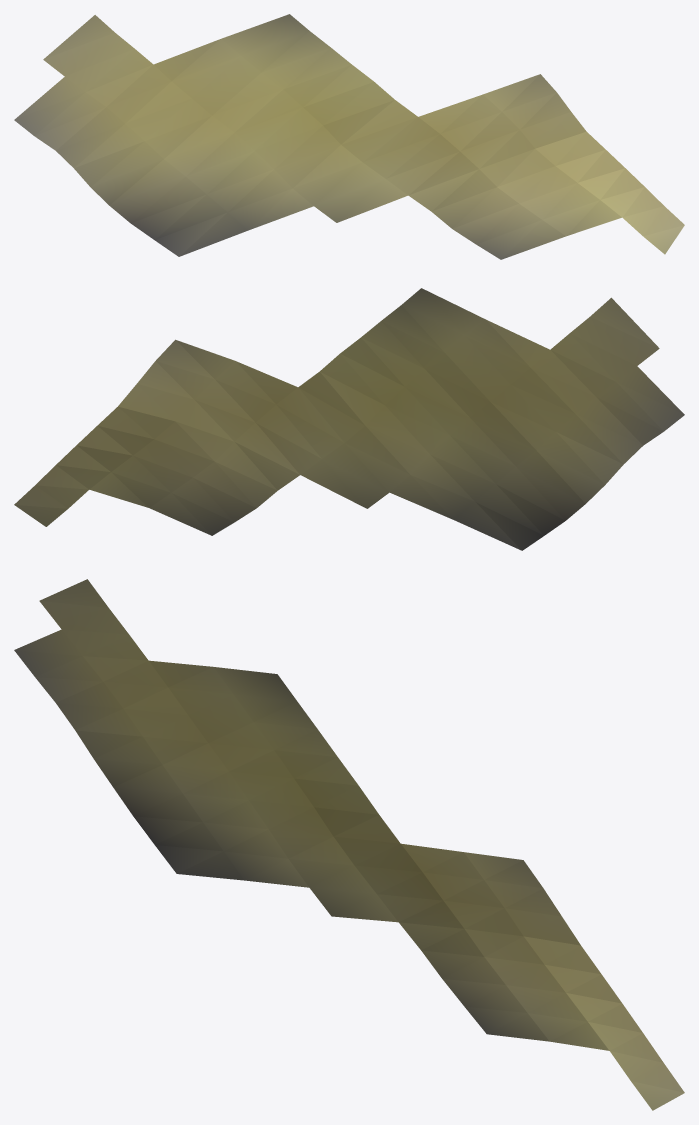
The model's file is entity-floor-marking-23.glb.
3 views of the same model, one above another, from view 1: azimuth 30°, elevation 25°; view 2: azimuth 150°, elevation 25°; view 3: azimuth 330°, elevation 25° (orthographic). The views are drawn at different scales.
Visible parts, largest first — view 1: geometry_0; view 2: geometry_0; view 3: geometry_0.
Boxes of the visible parts, <box> form: geometry_0: <box>14,14,684,259</box>; geometry_0: <box>14,288,684,550</box>; geometry_0: <box>14,579,684,1110</box>.
Bounding box in the file's own units: 0.2268 × 0.1206 × 0.0109.
